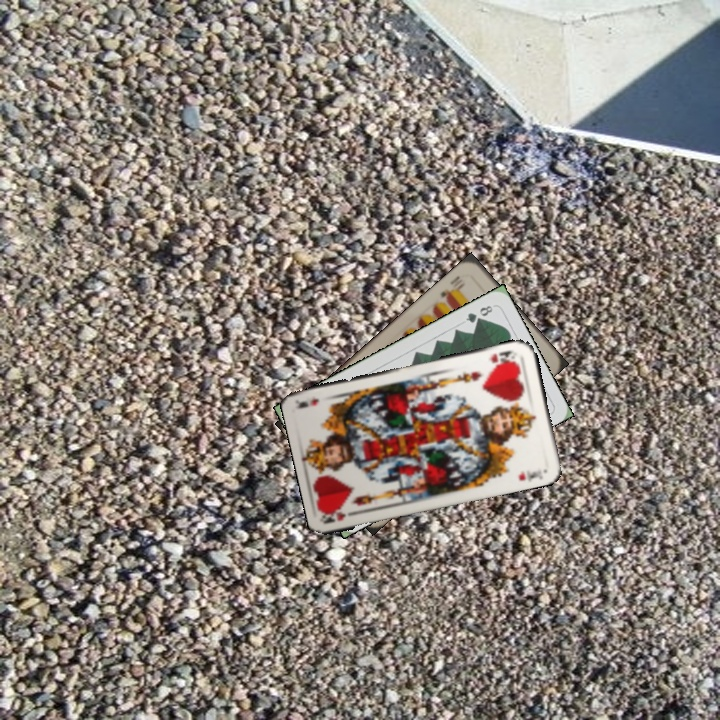E10: (436, 271, 468, 304)
G8: (461, 301, 496, 325)
HK: (321, 506, 362, 526), (486, 346, 519, 368)
